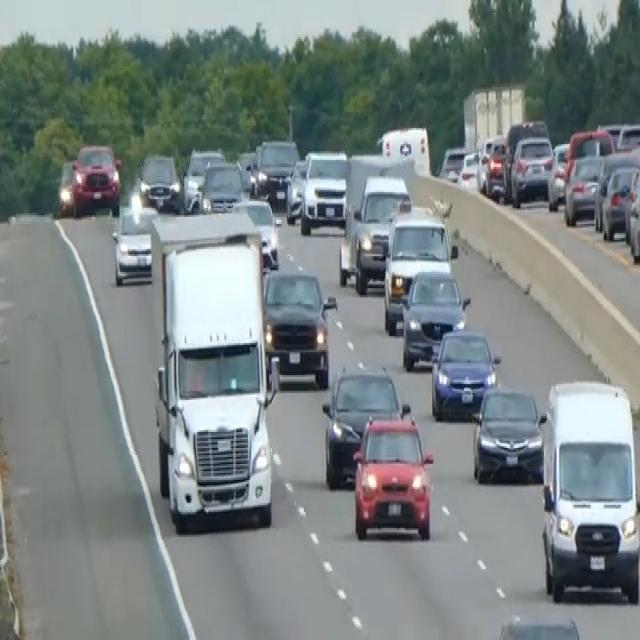car: (351, 409, 434, 540), (321, 363, 406, 489), (382, 208, 457, 334), (261, 267, 336, 389), (470, 382, 544, 484), (399, 265, 470, 370), (352, 172, 411, 292), (429, 324, 500, 419), (299, 148, 349, 235), (111, 201, 159, 284), (71, 140, 121, 217), (231, 194, 281, 270), (510, 134, 555, 206), (253, 135, 299, 205), (563, 151, 605, 226), (600, 164, 637, 240), (137, 150, 181, 212), (198, 158, 246, 214), (182, 146, 224, 210), (491, 612, 586, 638), (476, 134, 507, 198), (546, 140, 570, 210), (284, 156, 308, 222), (56, 157, 78, 215), (626, 166, 639, 262), (439, 142, 468, 183)
lorry: (147, 210, 278, 533)
minibus: (538, 375, 639, 605)
